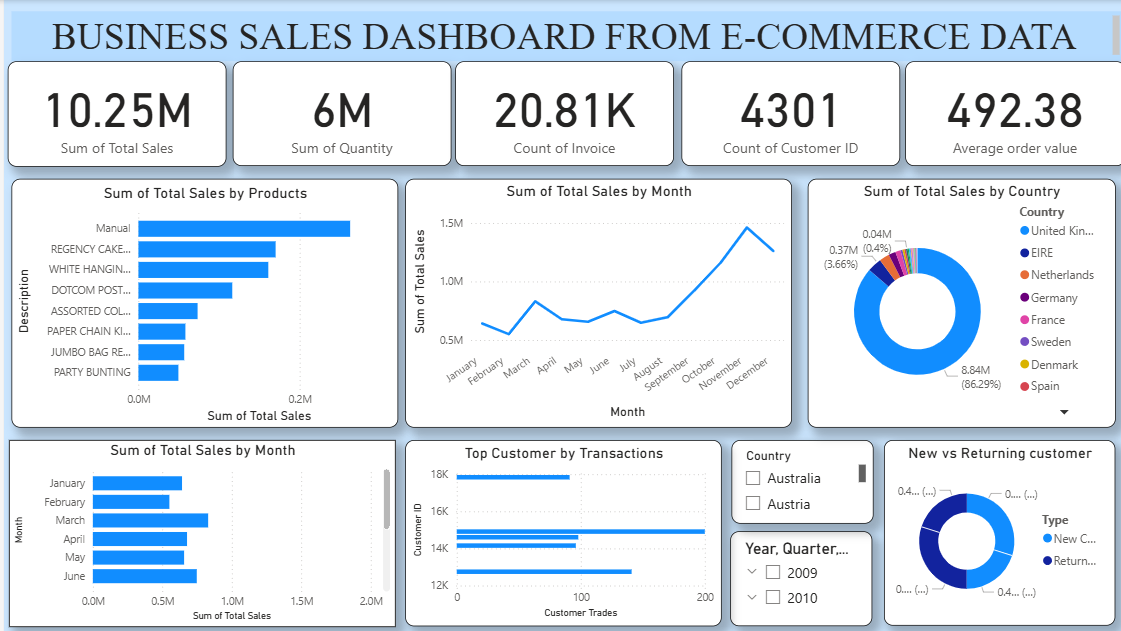

This screenshot's page, from the dashboard's own definition file:
{"tool":"powerbi","page":{"name":"Page 1","canvas":[1280,720],"ordinal":0},"visuals":[{"type":"card","fields":{"Values":["Sum(Year 2009-2010.Total Sales)"]},"box":[4,70,249,120],"z":0},{"type":"card","fields":{"Values":["Sum(Year 2009-2010.Quantity)"]},"box":[260,70,248.8,119.4],"z":1000},{"type":"card","fields":{"Values":["Count(Year 2009-2010.Invoice)"]},"box":[514,70,248.8,119.4],"z":2000},{"type":"card","fields":{"Values":["Count(Year 2009-2010.Customer ID)"]},"box":[771,70,248.8,119.4],"z":3000},{"type":"card","fields":{"Values":["Year 2009-2010.Average order value"]},"box":[1025,70,250,119.4],"z":4000},{"type":"clusteredBarChart","title":"Sum of Total Sales by Products","fields":{"Y":["Sum(Year 2009-2010.Total Sales)"],"Category":["Year 2009-2010.Description"]},"box":[4,204,440,283.3],"z":5000},{"type":"lineChart","fields":{"Y":["Sum(Year 2009-2010.Total Sales)"],"Category":["Year 2009-2010.InvoiceDate.Variation.Date Hierarchy.Month"]},"box":[457.1,204,440,282.9],"z":6000},{"type":"slicer","fields":{"Values":["Year 2009-2010.InvoiceDate.Variation.Date Hierarchy.Year","Year 2009-2010.InvoiceDate.Variation.Date Hierarchy.Quarter","Year 2009-2010.InvoiceDate.Variation.Date Hierarchy.Month","Year 2009-2010.InvoiceDate.Variation.Date Hierarchy.Day"]},"box":[826.7,605,161.7,108.3],"z":8000},{"type":"slicer","fields":{"Values":["Year 2009-2010.Country"]},"box":[828.3,500,161.7,95],"z":9000},{"type":"clusteredBarChart","fields":{"Category":["Year 2009-2010.InvoiceDate.Variation.Date Hierarchy.Month"],"Y":["Sum(Year 2009-2010.Total Sales)"]},"box":[5,500,440,212.5],"z":10000},{"type":"donutChart","fields":{"Category":["Year 2009-2010.Country"],"Y":["Sum(Year 2009-2010.Total Sales)"]},"box":[908.6,204,350,282.9],"z":10001},{"type":"clusteredBarChart","title":"Top Customer by Transactions","fields":{"Category":["Year 2009-2010.Customer ID"],"Y":["Year 2009-2010.Customer Trades"]},"box":[456.7,500,360,211.7],"z":10002},{"type":"textbox","box":[220,0,835,70],"z":10003}]}

Visuals, with their boxes in screenshot pixels (x1, y1, x2, y2), scaled from the page's 1280x720 canvas onto the 1121x631 screenshot:
card - Sum(Year 2009-2010.Total Sales): <box>4,61,222,167</box>
card - Sum(Year 2009-2010.Quantity): <box>228,61,446,166</box>
card - Count(Year 2009-2010.Invoice): <box>450,61,668,166</box>
card - Count(Year 2009-2010.Customer ID): <box>675,61,893,166</box>
card - Year 2009-2010.Average order value: <box>898,61,1117,166</box>
"Sum of Total Sales by Products" clusteredBarChart: <box>4,179,389,427</box>
lineChart - Sum(Year 2009-2010.Total Sales) x Year 2009-2010.InvoiceDate.Variation.Date Hierarchy.Month: <box>400,179,786,427</box>
slicer - Year 2009-2010.InvoiceDate.Variation.Date Hierarchy.Year x Year 2009-2010.InvoiceDate.Variation.Date Hierarchy.Quarter: <box>724,530,866,625</box>
slicer - Year 2009-2010.Country: <box>725,438,867,521</box>
clusteredBarChart - Year 2009-2010.InvoiceDate.Variation.Date Hierarchy.Month x Sum(Year 2009-2010.Total Sales): <box>4,438,390,624</box>
donutChart - Year 2009-2010.Country x Sum(Year 2009-2010.Total Sales): <box>796,179,1102,427</box>
"Top Customer by Transactions" clusteredBarChart: <box>400,438,715,624</box>
textbox: <box>193,0,924,61</box>
